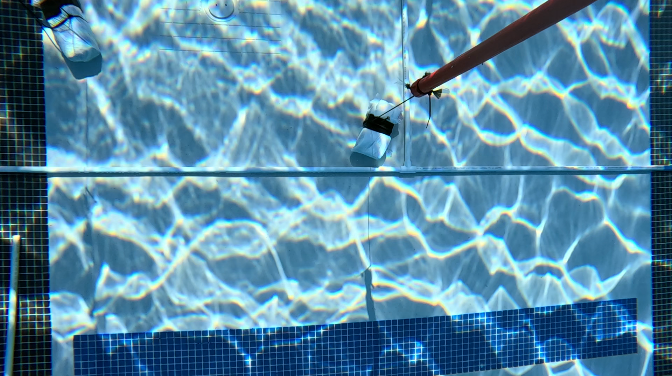sandbag: (38, 0, 100, 61)
